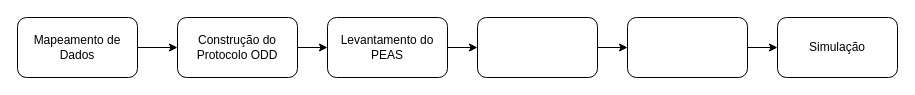
Some shapes in this 915 by 95 pixel diagram are drawn without their labels. The shapes that lost their labels are listed below. From the top down, each one's centre as x and y in pixels, then its label:
At (x=537, y=47): "Concepção do Ambiente".
At (x=687, y=47): "Construção do Algorítimo".
